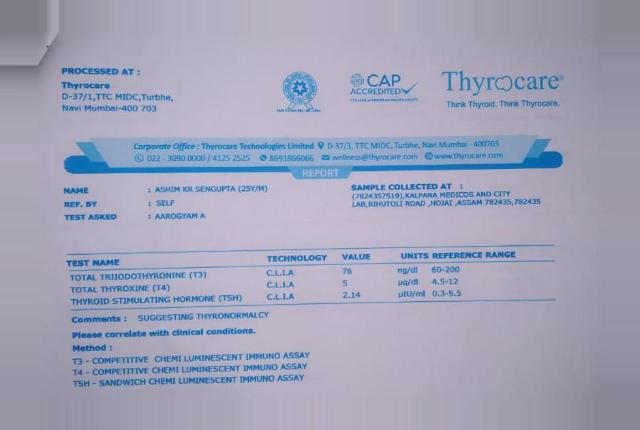Clinical_Conditions: (72, 342, 316, 391)
Name: (154, 182, 271, 195)
Ref_By: (154, 199, 179, 209)
Reference_Range: (431, 264, 465, 300)
Technology: (262, 266, 299, 306)
Test_Asked: (154, 210, 207, 225)
Test_Name: (68, 269, 252, 307)
Unit: (394, 265, 429, 302)
Value: (339, 265, 364, 303)
